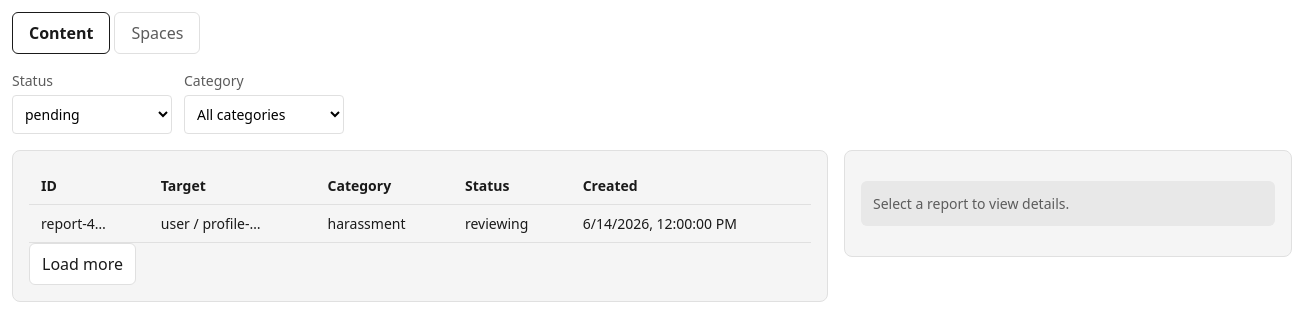
Scenario: QueuePage report close workflow › loads the next queue page when Load more is clicked
The width and height of the screenshot is (1292, 319).
Expected: the row with test id "report-row-report-42" is shown, [29, 204, 811, 242]
Click the button with test id "load-more-reports" at x=82, y=264, box [29, 243, 136, 285]
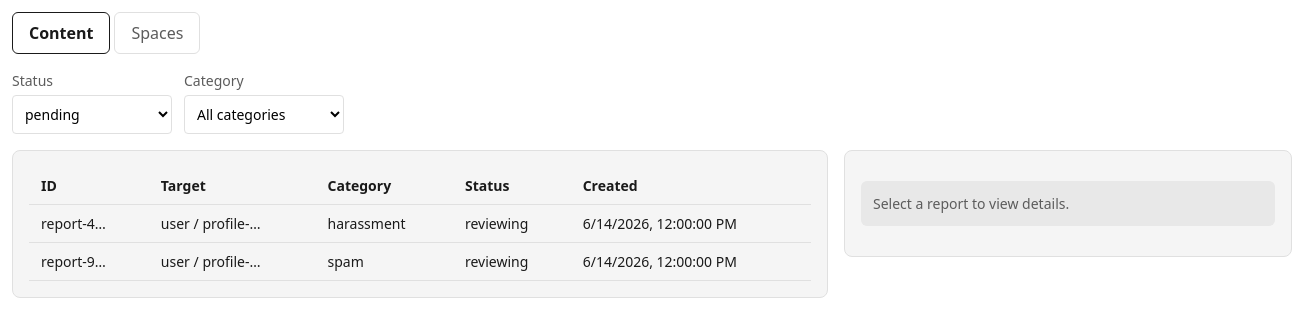
Now the row with test id "report-row-report-99" is shown, box [29, 242, 811, 280]
